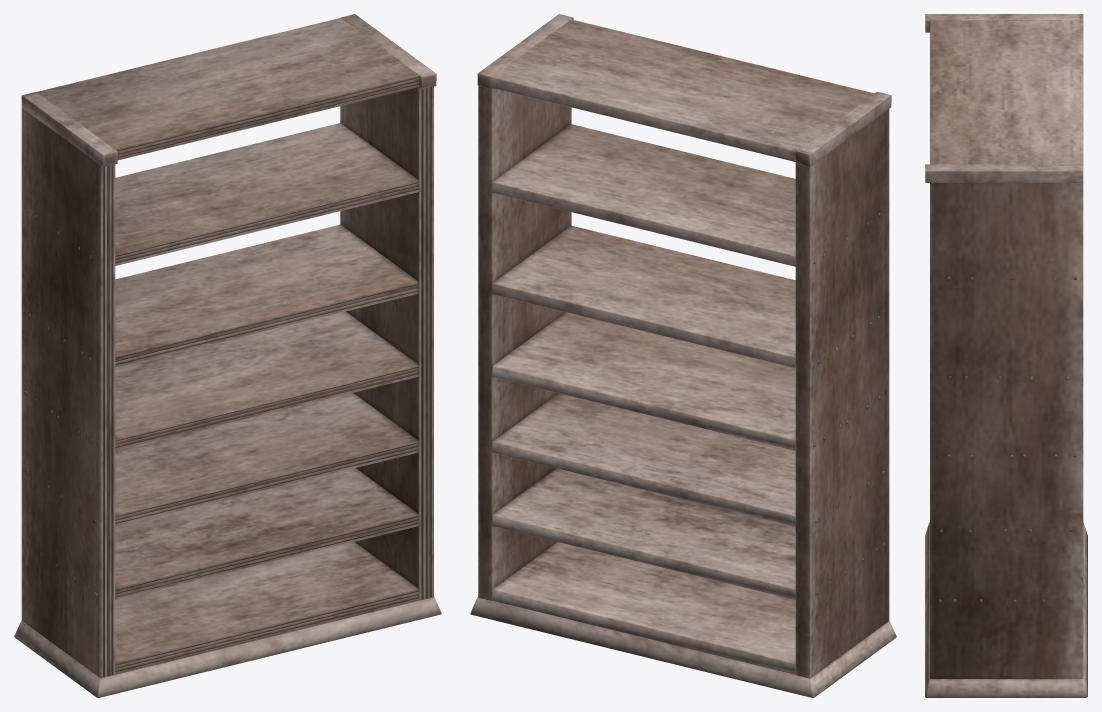
File: wooden_bookshelf_worn.glb
3 views of the same model, side by side, from view 1: azimuth 30°, elevation 25°; view 2: azimuth 150°, elevation 25°; view 3: azimuth 270°, elevation 25° (orthographic). The views are drawn at different scales.
Visible parts, largest first — view 1: wooden_bookshelf_worn; view 2: wooden_bookshelf_worn; view 3: wooden_bookshelf_worn.
Part boxes in pixels (x1,y1,x2,y2): wooden_bookshelf_worn: (14, 14, 441, 697); wooden_bookshelf_worn: (470, 14, 896, 697); wooden_bookshelf_worn: (925, 14, 1087, 697).
Bounding box in the file's own units: 1.37 × 2.06 × 0.5813.
1 material, 1 textured.
